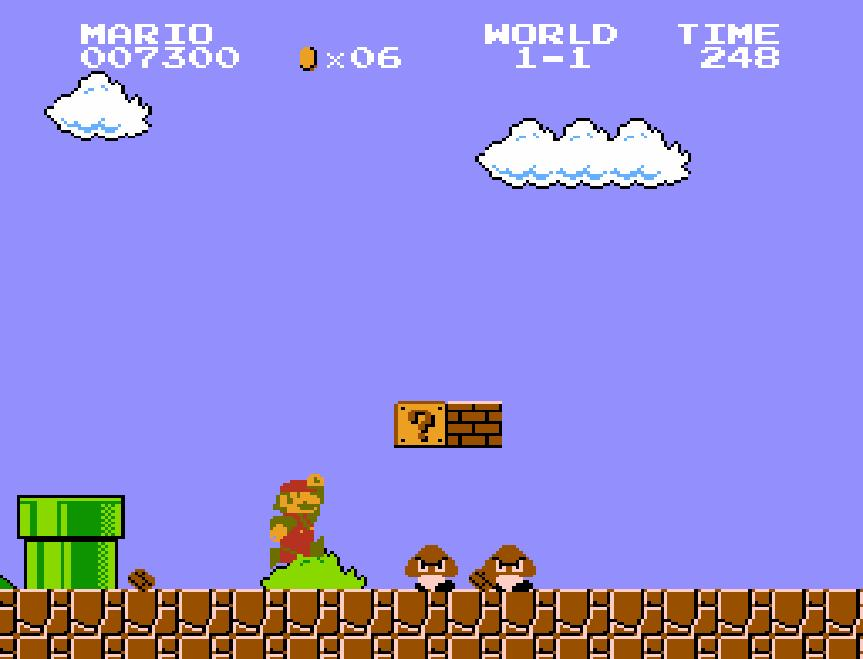big_mario: (267, 472, 325, 570)
